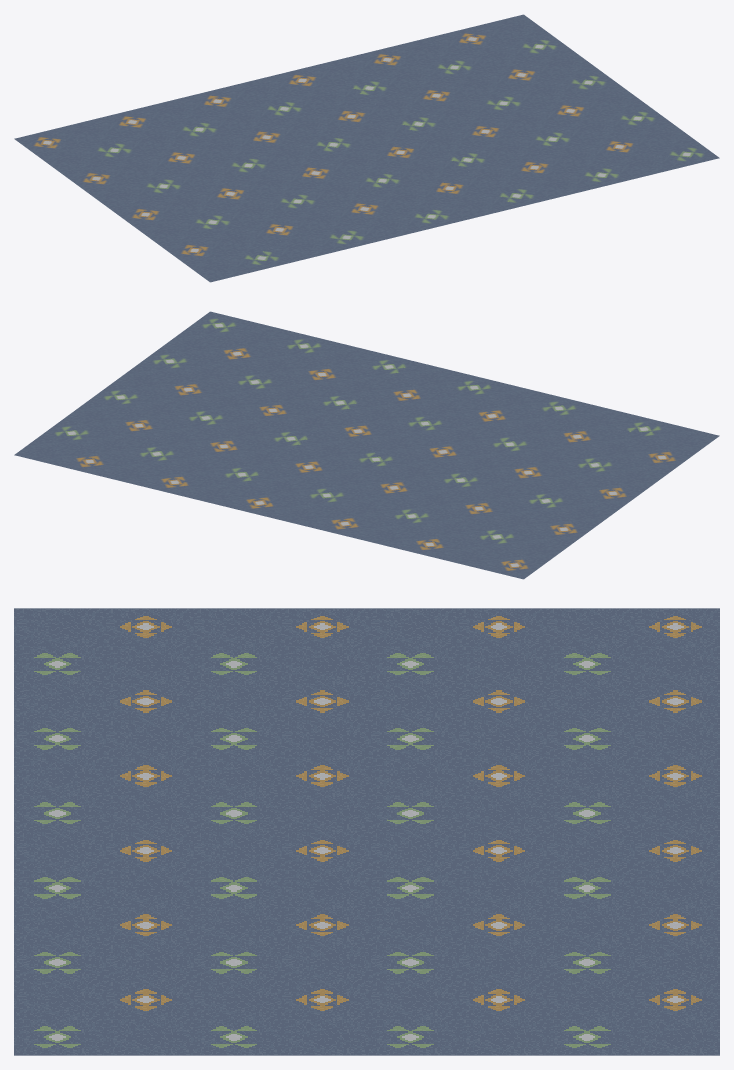
The model's file is kd_stage_135ded_4_45_exterior.glb.
The picture shows the model from 3 angles, top to bottom: view 1: azimuth 30°, elevation 25°; view 2: azimuth 150°, elevation 25°; view 3: azimuth 270°, elevation 25°; orthographic projection. The views are drawn at different scales.
Parts seen in each view (by area): view 1: kd_stage_135ded_4_45_exterior; view 2: kd_stage_135ded_4_45_exterior; view 3: kd_stage_135ded_4_45_exterior.
Boxes of the visible parts, x1,y1,x2,y2 form: kd_stage_135ded_4_45_exterior: (14, 14, 719, 282); kd_stage_135ded_4_45_exterior: (14, 311, 719, 579); kd_stage_135ded_4_45_exterior: (14, 608, 719, 1055).
Bounding box in the file's own units: 3.01 × 0.000115 × 2.
Materials: 1 (1 with a texture image).
